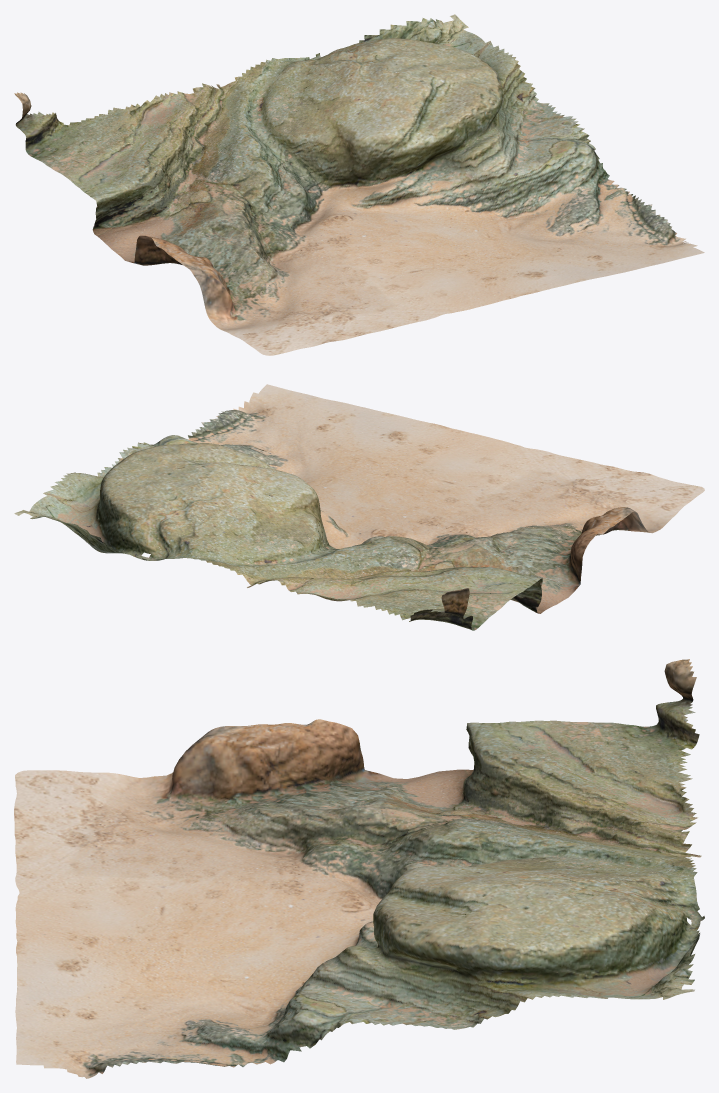
Rendered from BeachRockFree_fbx.fbx.
3 renders of one model, top to bottom at view 1: azimuth 30°, elevation 25°; view 2: azimuth 150°, elevation 25°; view 3: azimuth 270°, elevation 25°, orthographic. The views are drawn at different scales.
Parts seen in each view (by area): view 1: BeachRockFree; view 2: BeachRockFree; view 3: BeachRockFree.
Boxes of the visible parts, box(x1,y1,x2,y2) form: BeachRockFree: box(14, 14, 704, 355); BeachRockFree: box(14, 384, 704, 630); BeachRockFree: box(14, 659, 704, 1078).
Size of the model in its own units: 344 by 71.28 by 338.
